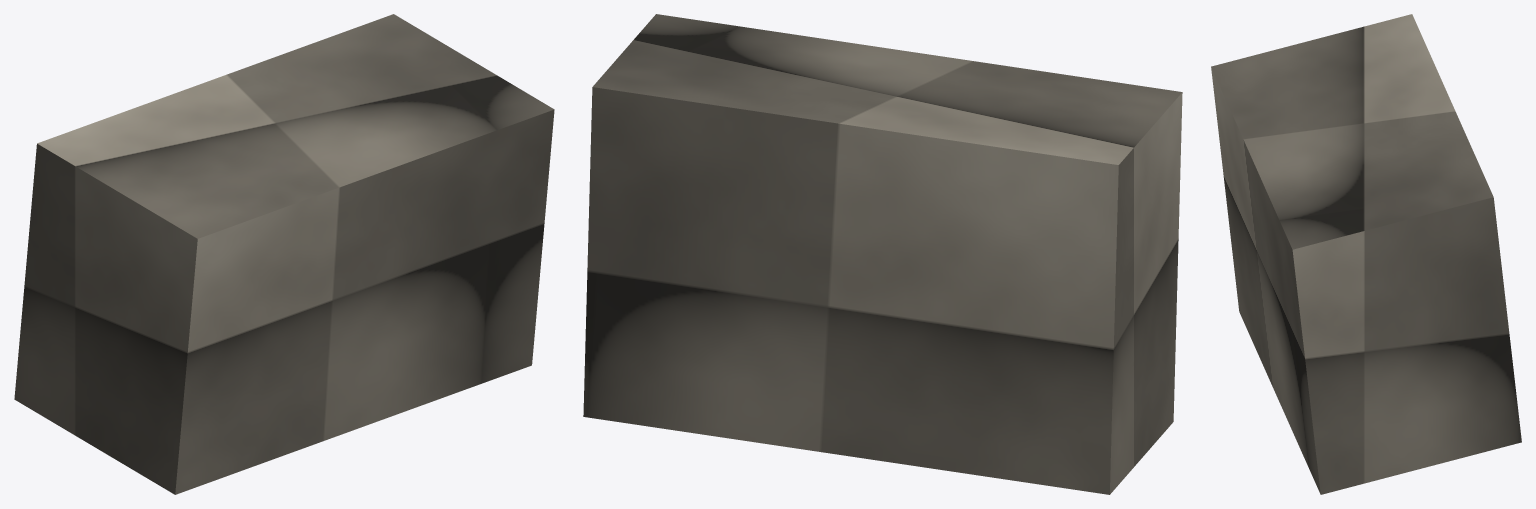
The model's file is Prop_Brick3_LOD2.gltf.
3 views of the same model, side by side, from view 1: azimuth 30°, elevation 25°; view 2: azimuth 150°, elevation 25°; view 3: azimuth 270°, elevation 25° (orthographic). The views are drawn at different scales.
Parts seen in each view (by area): view 1: Prop_Brick3_LOD2; view 2: Prop_Brick3_LOD2; view 3: Prop_Brick3_LOD2.
Boxes of the visible parts, <box> form: Prop_Brick3_LOD2: <box>14,14,554,494</box>; Prop_Brick3_LOD2: <box>583,14,1182,494</box>; Prop_Brick3_LOD2: <box>1211,14,1521,494</box>.
Bounding box in the file's own units: 0.38 × 0.2324 × 0.2366.
Materials: 1 (1 with a texture image).
